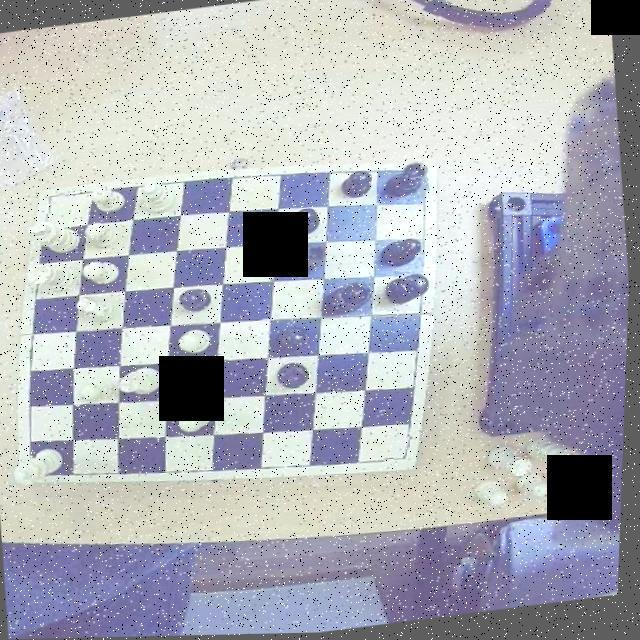chess-table-corners: (385, 434, 421, 470), (402, 162, 437, 198), (23, 452, 58, 484), (38, 186, 70, 216)
